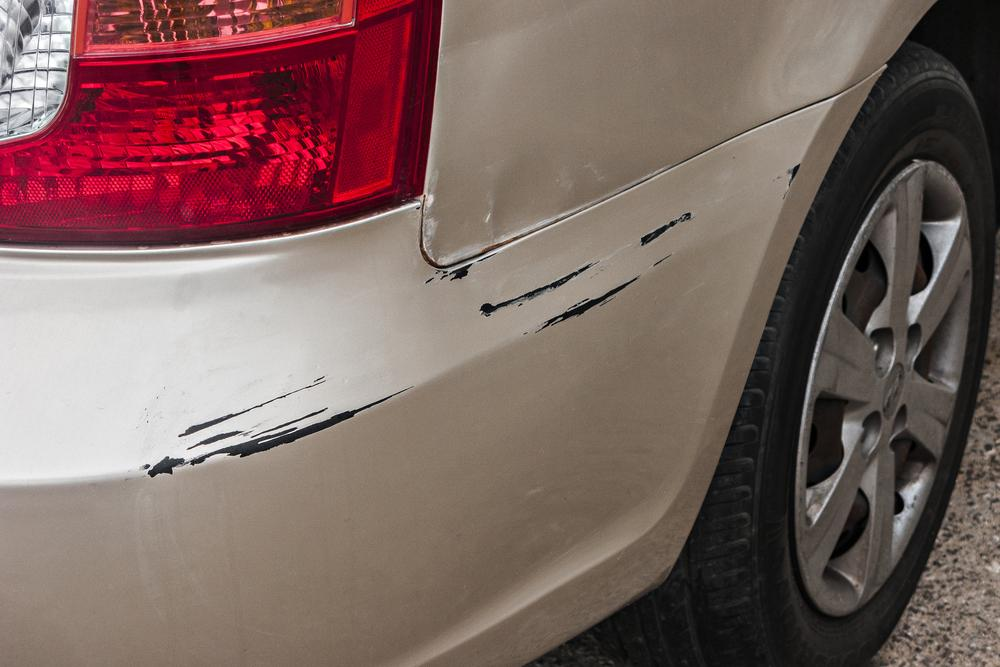scratch: (413, 160, 807, 341), (142, 369, 419, 482)
